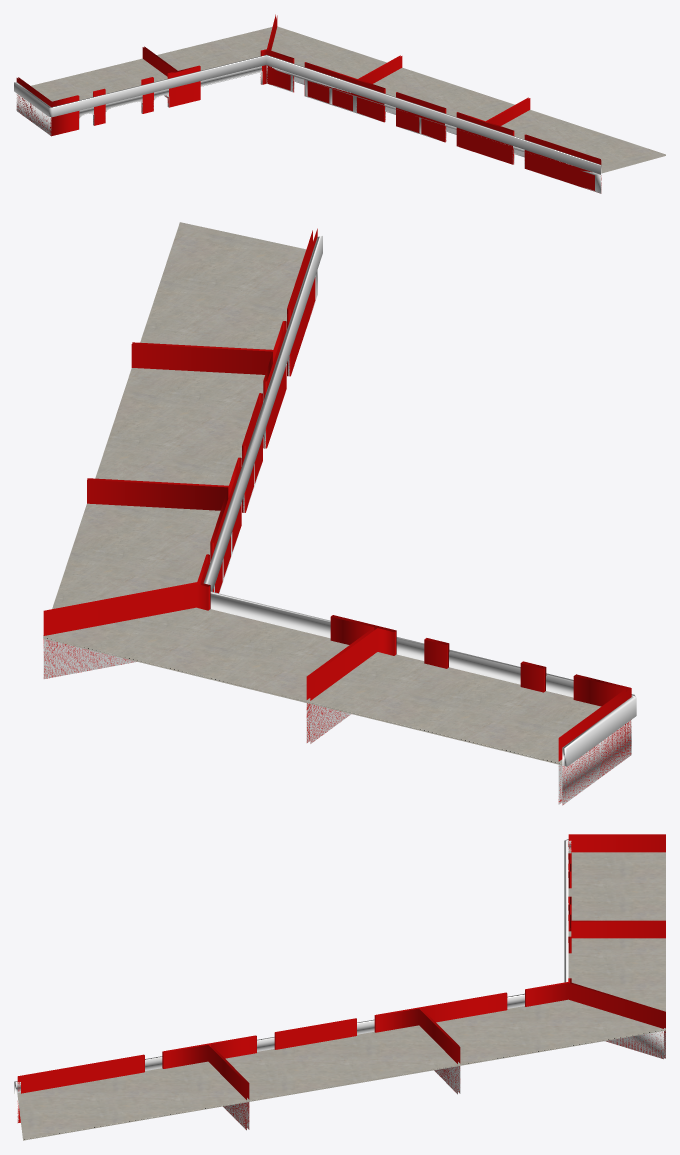
Rendered from bars_restaurants.fbx.
The picture shows the model from 3 angles, top to bottom: view 1: azimuth 30°, elevation 25°; view 2: azimuth 150°, elevation 25°; view 3: azimuth 270°, elevation 25°; orthographic projection. The views are drawn at different scales.
Parts seen in each view (by area): view 1: restaurants_waende, colmesh; view 2: restaurants_waende, colmesh; view 3: restaurants_waende, colmesh.
Part boxes in pixels (left/top/right/bottom): restaurants_waende: left=14, top=26, right=665, bottom=193; colmesh: left=16, top=14, right=601, bottom=191; restaurants_waende: left=43, top=222, right=636, bottom=805; colmesh: left=43, top=228, right=631, bottom=804; restaurants_waende: left=14, top=839, right=665, bottom=1140; colmesh: left=17, top=834, right=665, bottom=1129.
Size of the model in its own units: 8102 by 614 by 7713.
